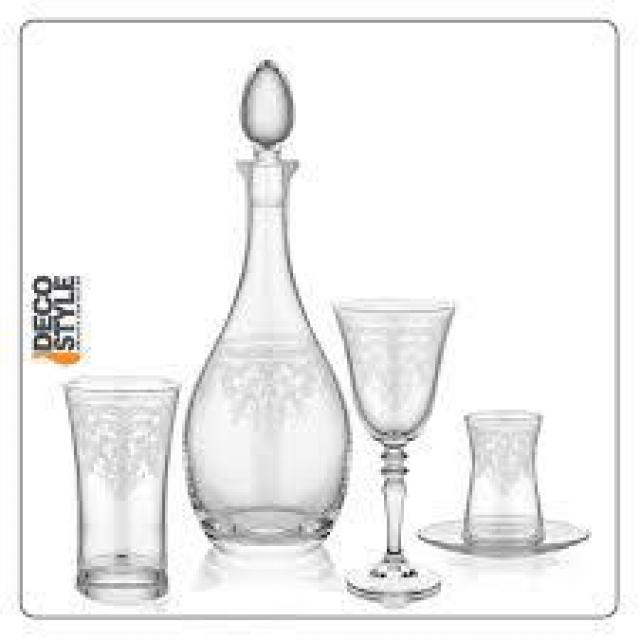non-organic waste: (179, 49, 356, 564), (320, 292, 462, 598), (57, 373, 182, 603), (411, 402, 590, 559)
